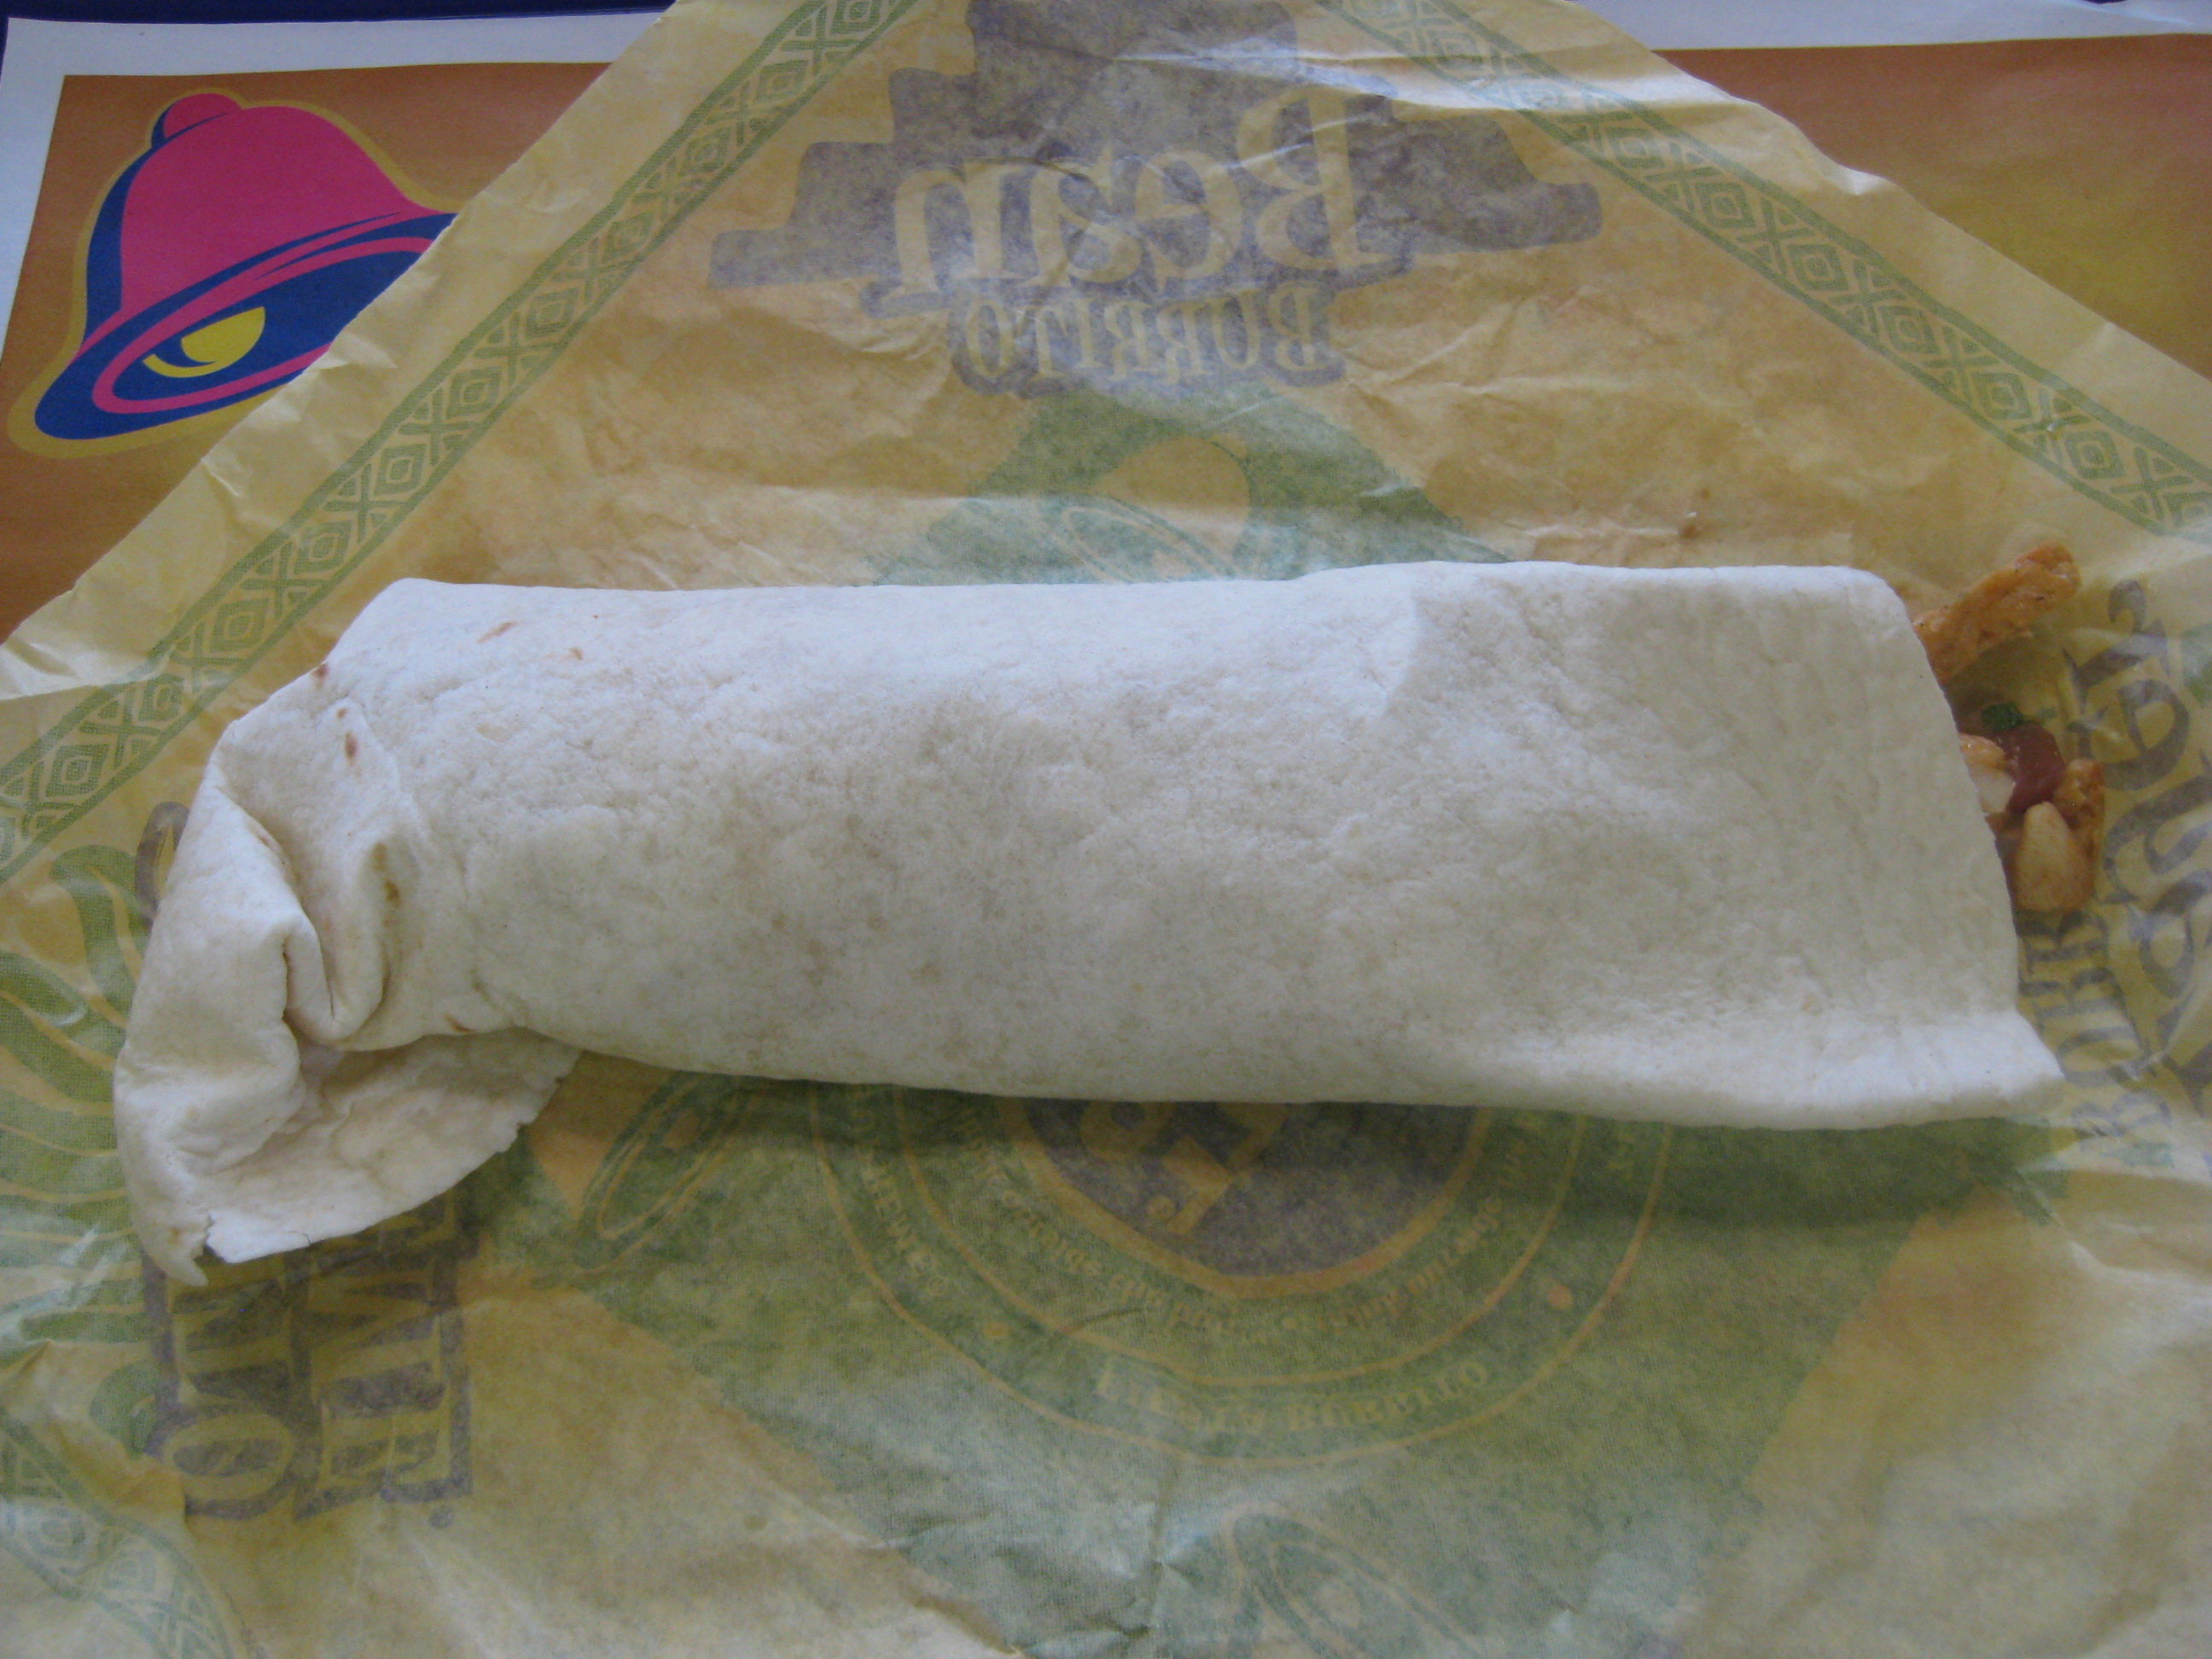burrito: (106, 433, 2067, 1329)
